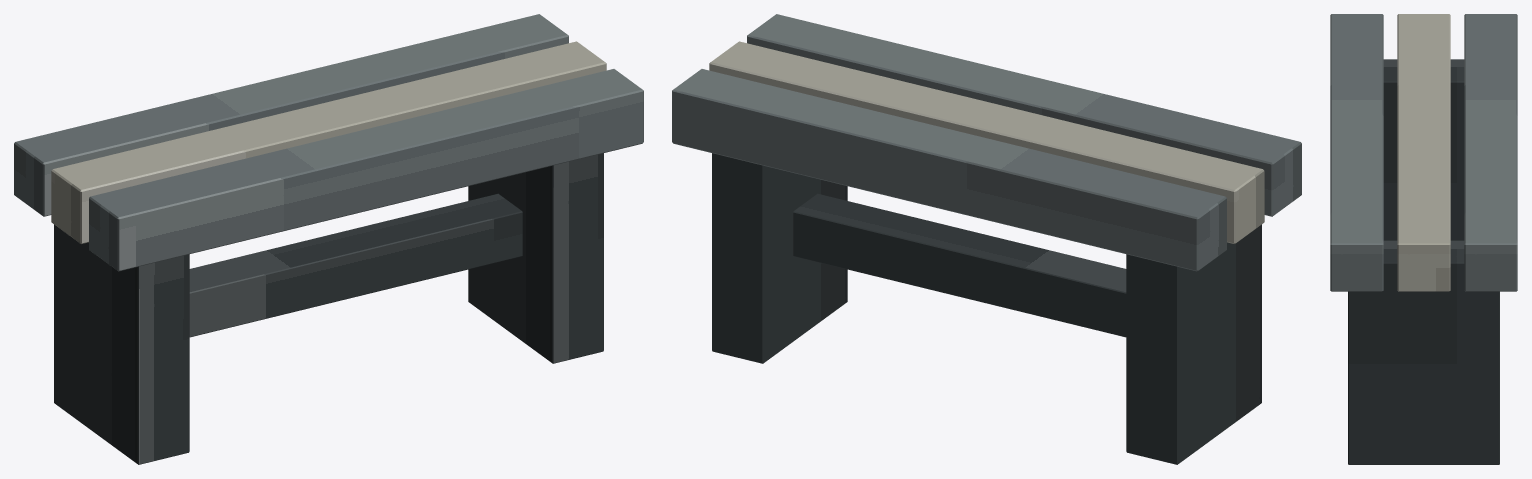
File: public_shower_bench.glb
The picture shows the model from 3 angles, left to right: view 1: azimuth 30°, elevation 25°; view 2: azimuth 150°, elevation 25°; view 3: azimuth 270°, elevation 25°; orthographic projection. The views are drawn at different scales.
Parts seen in each view (by area): view 1: ShowerBenchSlat_0, ShowerBenchLeg-0.48, ShowerBenchBrace, ShowerBenchSlat_1, ShowerBenchSlat_2, ShowerBenchLeg0.48; view 2: ShowerBenchSlat_2, ShowerBenchLeg-0.48, ShowerBenchBrace, ShowerBenchSlat_1, ShowerBenchSlat_0, ShowerBenchLeg0.48; view 3: ShowerBenchLeg0.48, ShowerBenchSlat_0, ShowerBenchSlat_1, ShowerBenchSlat_2, ShowerBenchLeg-0.48.
Boxes of the visible parts, box(x1,y1,x2,y2) form: ShowerBenchSlat_0: box(89, 69, 643, 271); ShowerBenchLeg-0.48: box(54, 224, 189, 464); ShowerBenchBrace: box(189, 193, 522, 337); ShowerBenchSlat_1: box(51, 41, 606, 243); ShowerBenchSlat_2: box(14, 14, 568, 216); ShowerBenchLeg0.48: box(468, 153, 603, 363); ShowerBenchSlat_2: box(672, 69, 1226, 271); ShowerBenchLeg-0.48: box(1126, 224, 1261, 464); ShowerBenchBrace: box(793, 193, 1126, 337); ShowerBenchSlat_1: box(709, 41, 1264, 243); ShowerBenchSlat_0: box(747, 14, 1301, 216); ShowerBenchLeg0.48: box(712, 153, 847, 363); ShowerBenchLeg0.48: box(1348, 240, 1499, 464); ShowerBenchSlat_0: box(1330, 14, 1383, 291); ShowerBenchSlat_1: box(1397, 14, 1450, 291); ShowerBenchSlat_2: box(1464, 14, 1517, 291); ShowerBenchLeg-0.48: box(1383, 59, 1464, 240).
Size of the model in its own units: 1.22 by 0.58 by 0.42.
Materials: 1 (1 with a texture image).
